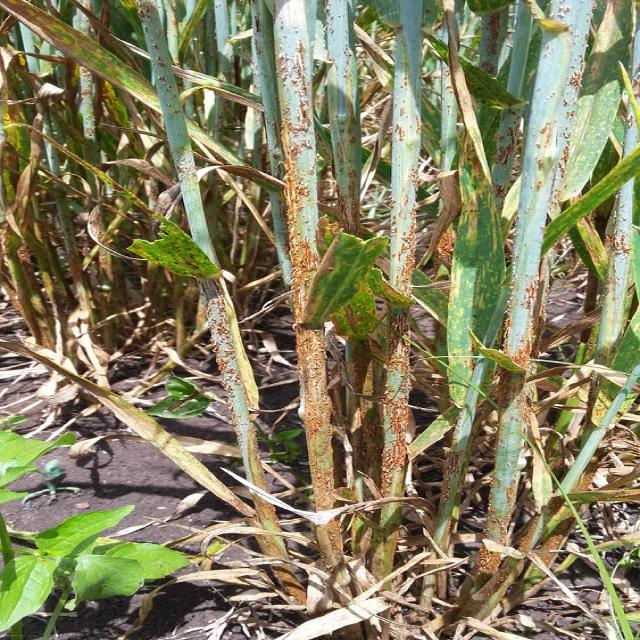wheat-stemrust: (287, 206, 332, 509), (489, 260, 539, 507), (382, 217, 416, 495), (200, 280, 249, 465)
